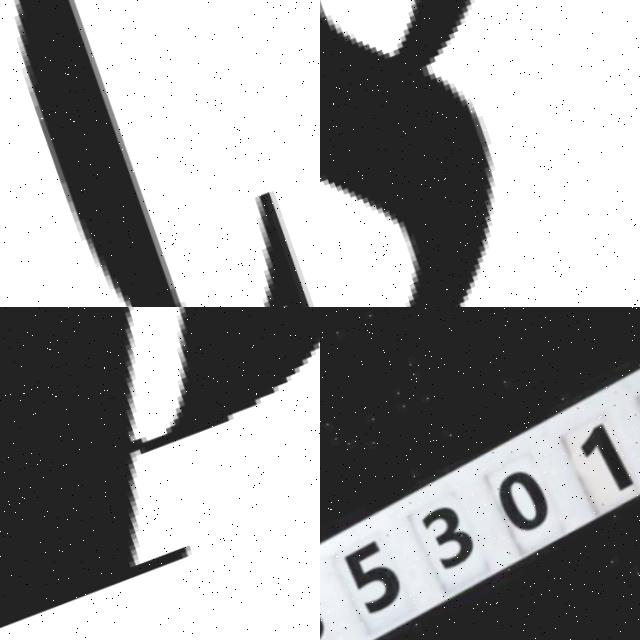0: (474, 444, 570, 552)
1: (554, 408, 640, 510)
3: (401, 484, 491, 585)
5: (321, 519, 422, 632)
8: (320, 0, 640, 307)
C: (19, 0, 191, 307)
